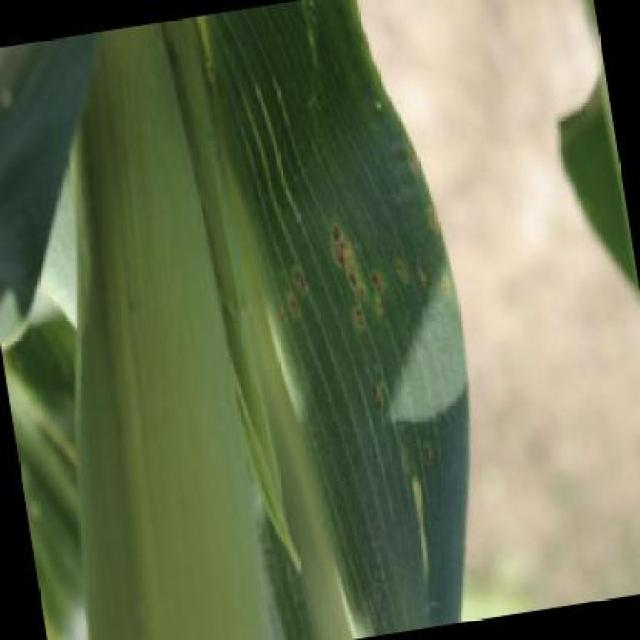Corn_Rust: (242, 117, 496, 446)
